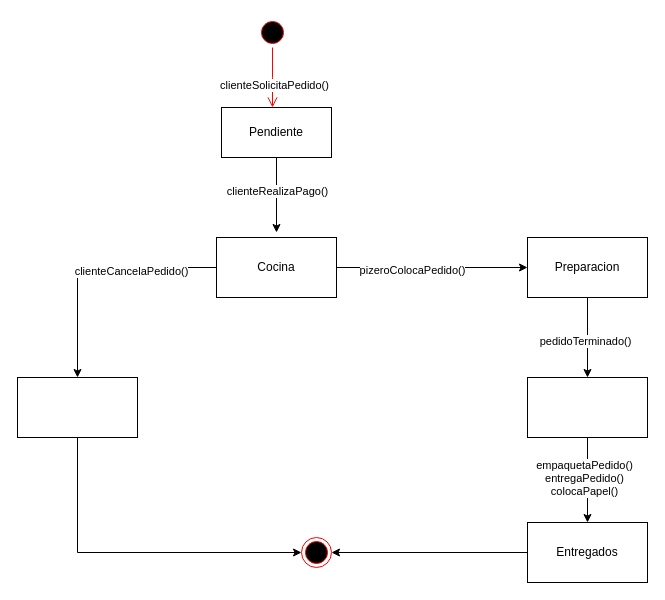
Some shapes in this 665 by 600 pixel diagram are drawn without their labels. Here are the shapes that lost their labels. From the top down, the centre of each, then its label:
point 77,407: Cancelado
point 587,407: ListoParaEntregar
